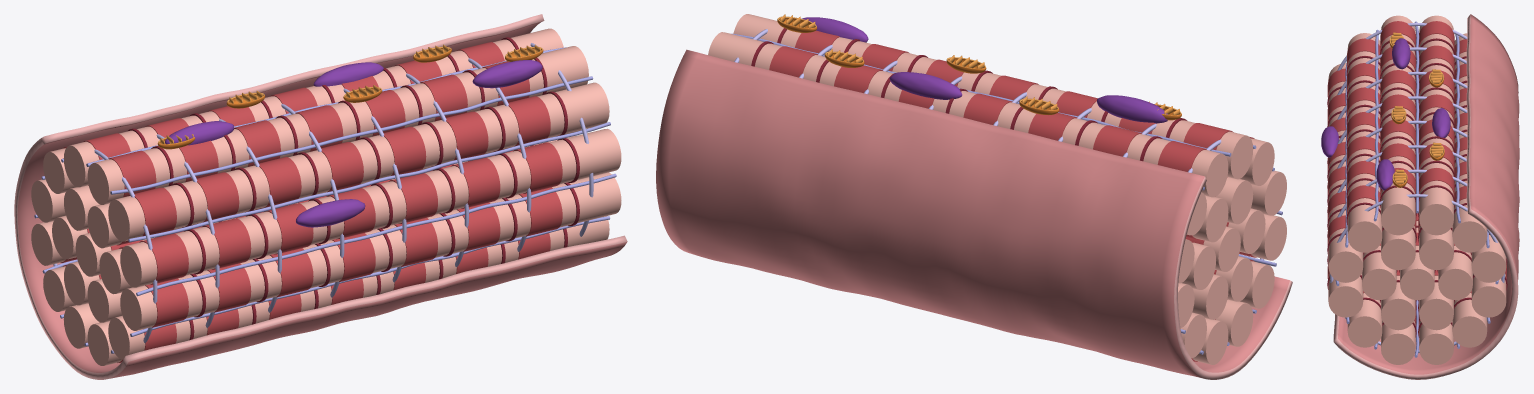
Rendered from muscle.glb.
3 renders of one model, left to right at view 1: azimuth 30°, elevation 25°; view 2: azimuth 150°, elevation 25°; view 3: azimuth 270°, elevation 25°, orthographic. The views are drawn at different scales.
Visible parts, largest first — view 1: myofibril, sarcomere, membrane, sarcoplasmic-reticulum, sarcomere_zdiscs, nucleus, t-tubule; view 2: membrane, myofibril, sarcomere, nucleus, sarcomere_zdiscs, sarcoplasmic-reticulum, t-tubule; view 3: myofibril, membrane, sarcomere, sarcomere_zdiscs, sarcoplasmic-reticulum, t-tubule, nucleus.
Part boxes in pixels (x1=…): myofibril: x1=31, y1=28, x2=621, y2=365; sarcomere: x1=60, y1=42, x2=562, y2=362; membrane: x1=14, y1=14, x2=627, y2=379; sarcoplasmic-reticulum: x1=34, y1=47, x2=616, y2=353; sarcomere_zdiscs: x1=127, y1=37, x2=579, y2=340; nucleus: x1=165, y1=60, x2=542, y2=227; t-tubule: x1=53, y1=43, x2=593, y2=343; membrane: x1=656, y1=49, x2=1292, y2=379; myofibril: x1=708, y1=14, x2=1286, y2=364; sarcomere: x1=769, y1=30, x2=1256, y2=361; nucleus: x1=802, y1=17, x2=1167, y2=123; sarcomere_zdiscs: x1=751, y1=28, x2=1187, y2=161; sarcoplasmic-reticulum: x1=731, y1=33, x2=1282, y2=354; t-tubule: x1=734, y1=29, x2=1263, y2=259; myofibril: x1=1328, y1=15, x2=1506, y2=364; membrane: x1=1333, y1=14, x2=1519, y2=379; sarcomere: x1=1327, y1=21, x2=1506, y2=326; sarcomere_zdiscs: x1=1327, y1=38, x2=1507, y2=337; sarcoplasmic-reticulum: x1=1335, y1=21, x2=1498, y2=357; t-tubule: x1=1330, y1=23, x2=1504, y2=352; nucleus: x1=1321, y1=38, x2=1450, y2=190.
Bounding box in the file's own units: 8.01 × 3.51 × 3.43.
